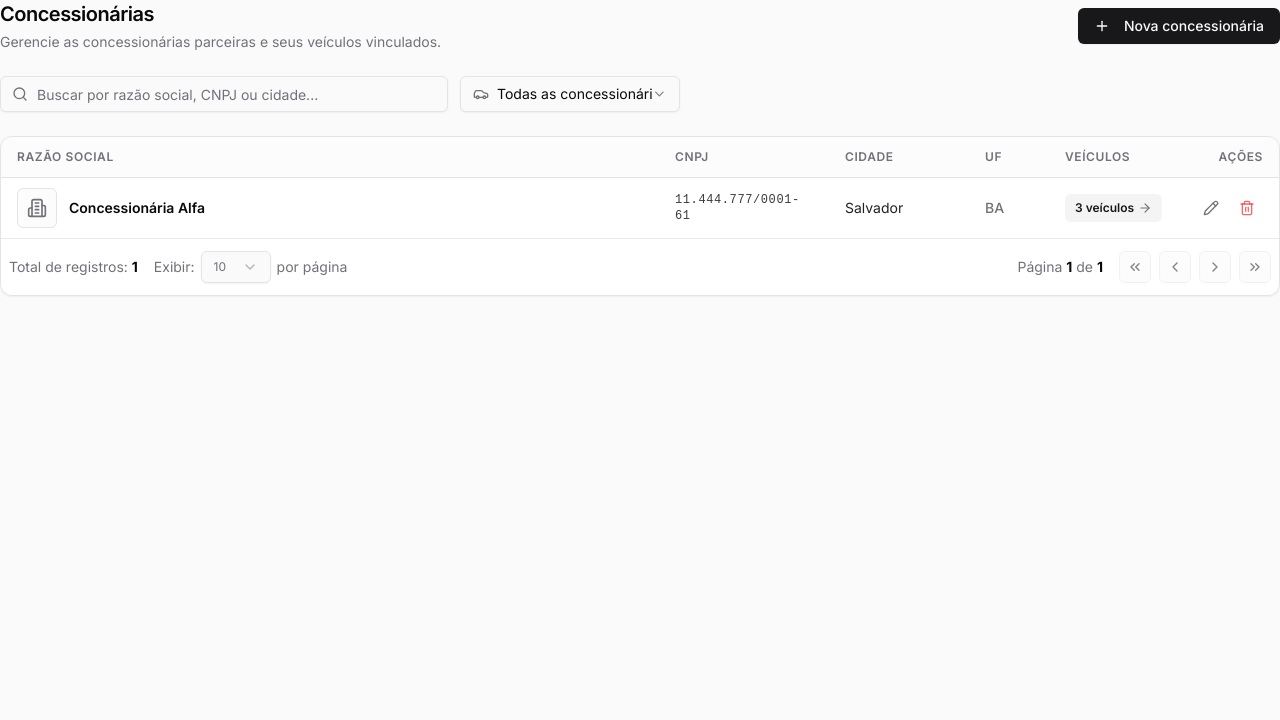
Test: DealersPage › should open edit form dialog when edit button is clicked in row
Click the button named "Editar concessionária Concessionária Alfa".
click(1211, 208)  # box [1195, 192, 1227, 224]
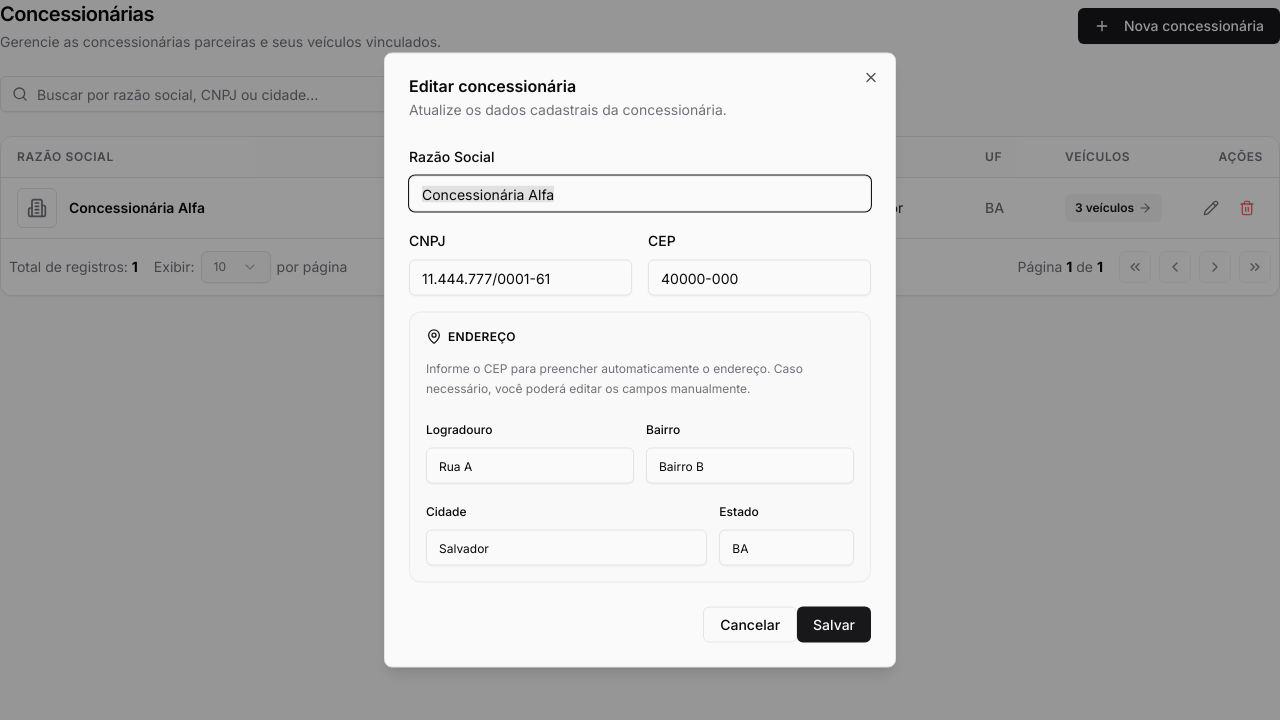
Check: the dialog is shown, box [384, 52, 896, 668]
Check: the heading "Editar concessionária" is shown, box [409, 76, 576, 96]
